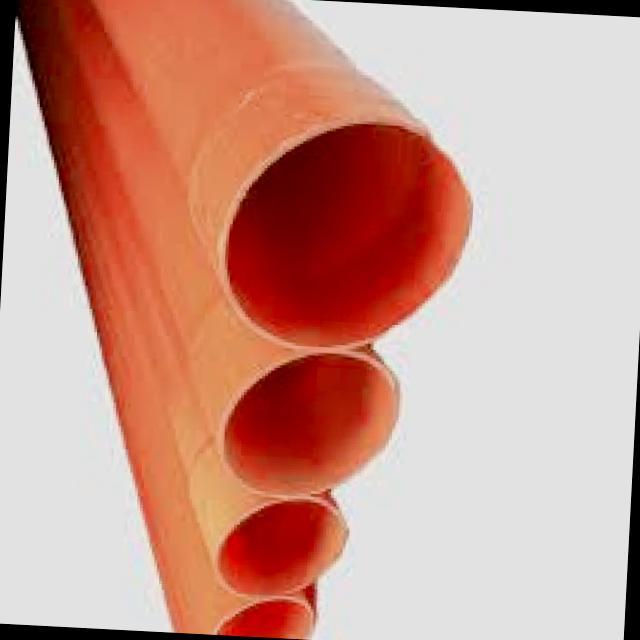gas: (16, 0, 469, 640), (22, 0, 275, 638)
